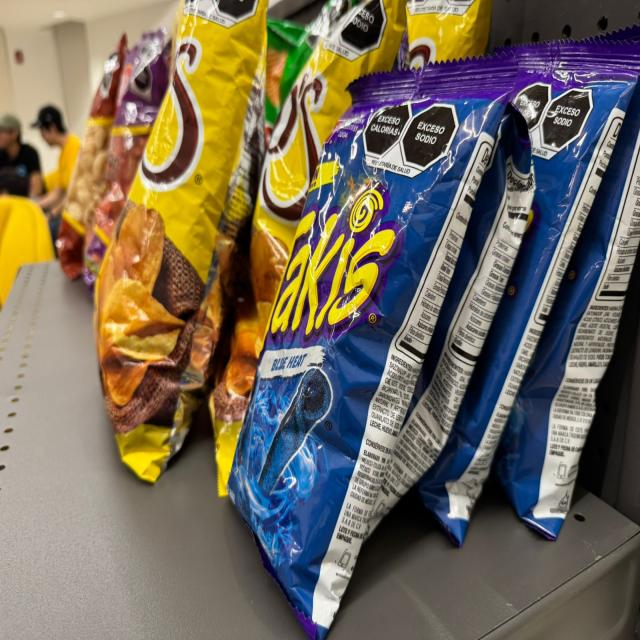Chicharron de Cerdo Natural Bitz 120 gr: (56, 35, 130, 288)
Papas Chips Barcel 170 gr bolsa con sal: (211, 6, 410, 490), (90, 5, 276, 489), (394, 5, 511, 78)
RUFFLES QUESO 185GR: (252, 14, 326, 131)
Takis Blue 75g: (217, 59, 518, 638), (412, 50, 640, 540), (362, 119, 546, 580), (516, 153, 640, 533)
chicharrones de cerdo intenso: (89, 45, 173, 284)
